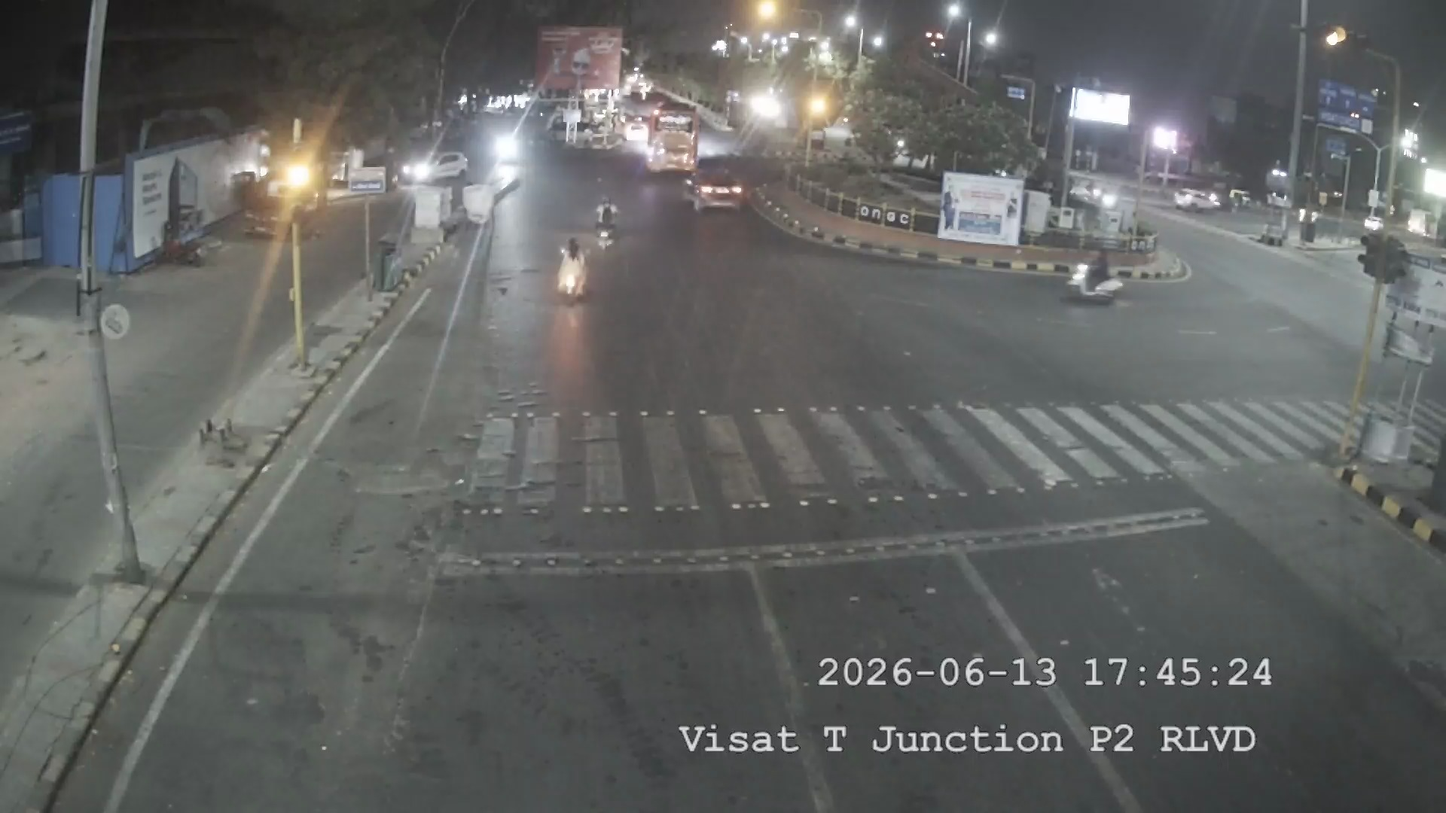car: (684, 164, 747, 213), (400, 143, 470, 186)
truck: (638, 103, 702, 173)
two_wheeler: (1062, 248, 1128, 306), (551, 232, 595, 310)
